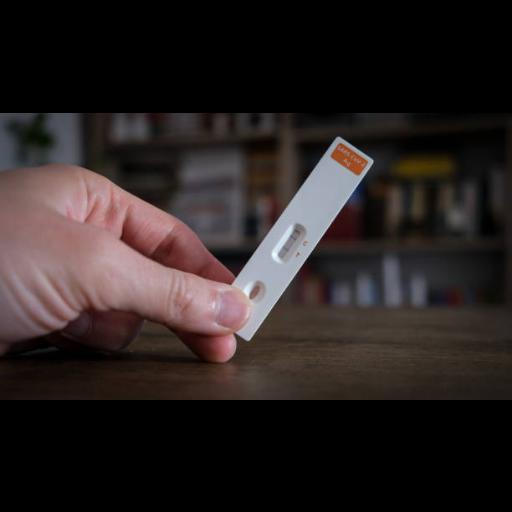Pos: (210, 136, 374, 341)
